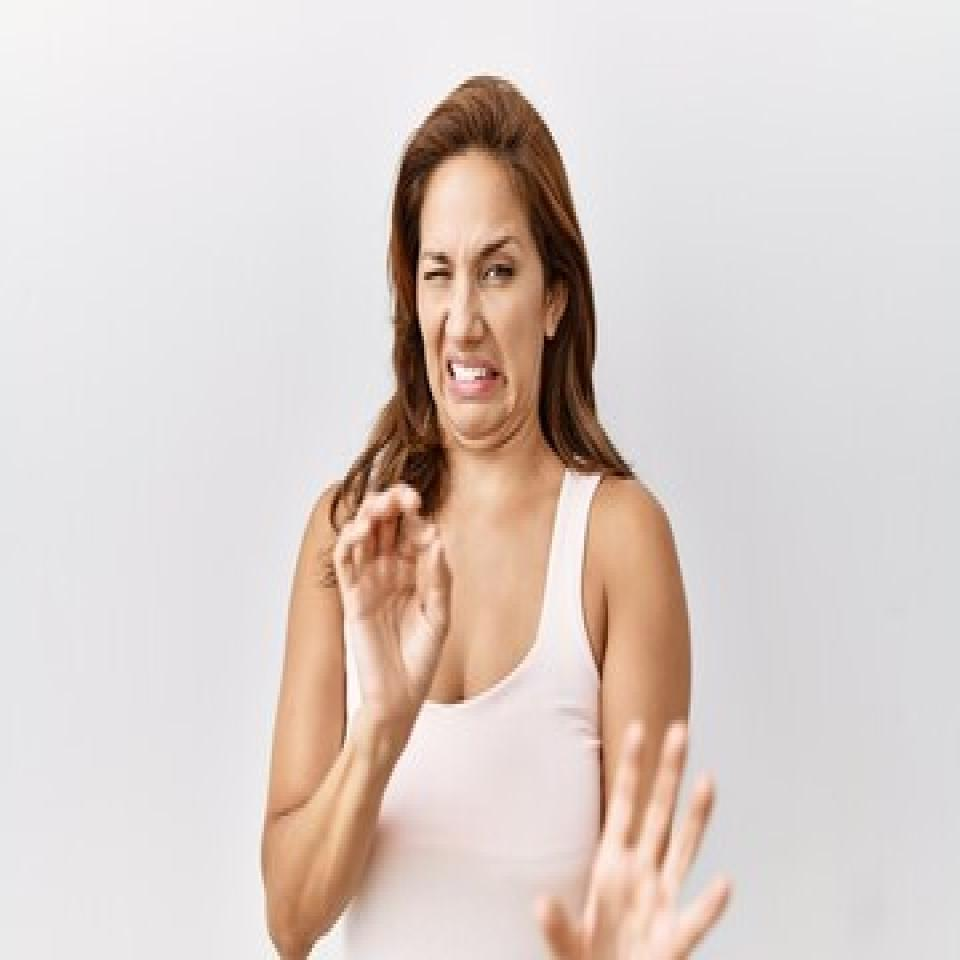Disgust: (413, 212, 552, 428)
